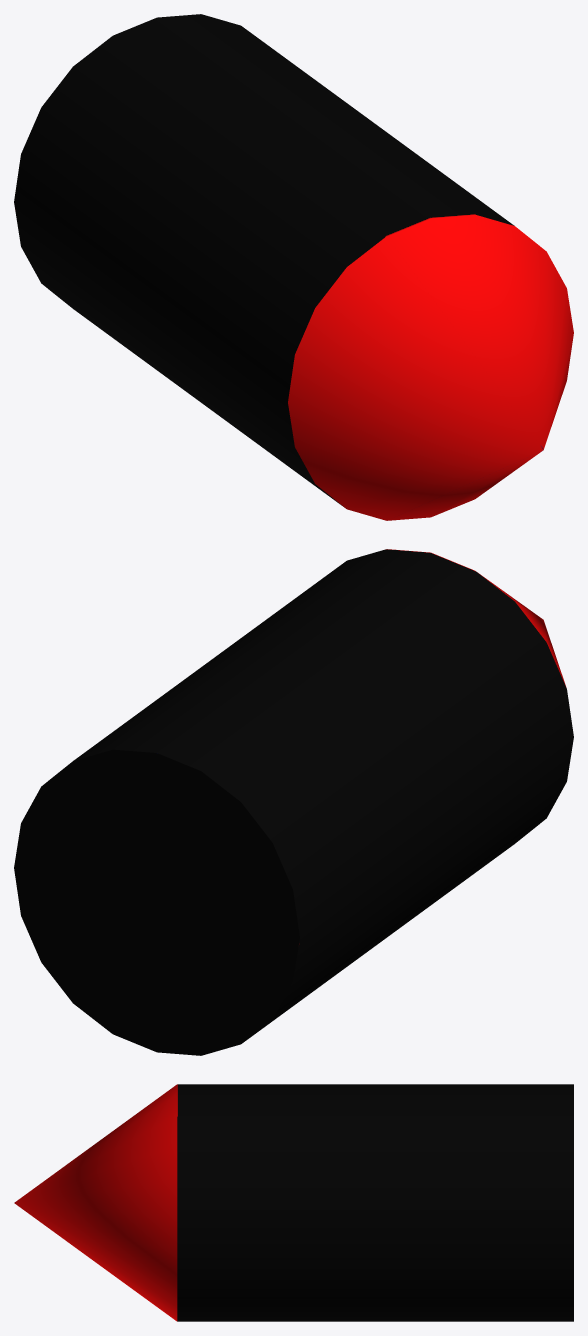
The model's file is bullet.obj.
3 views of the same model, one above another, from view 1: azimuth 30°, elevation 25°; view 2: azimuth 150°, elevation 25°; view 3: azimuth 270°, elevation 25° (orthographic). The views are drawn at different scales.
Visible parts, largest first — view 1: bullet:pCylinder1; view 2: bullet:pCylinder1; view 3: bullet:pCylinder1.
Part boxes in pixels (bbox=[...]): bullet:pCylinder1: bbox=[14, 14, 573, 520]; bullet:pCylinder1: bbox=[14, 549, 573, 1055]; bullet:pCylinder1: bbox=[14, 1084, 573, 1321].
Size of the model in its own units: 0.2581 by 0.2581 by 0.6041.
Materials: 1 (1 with a texture image).
